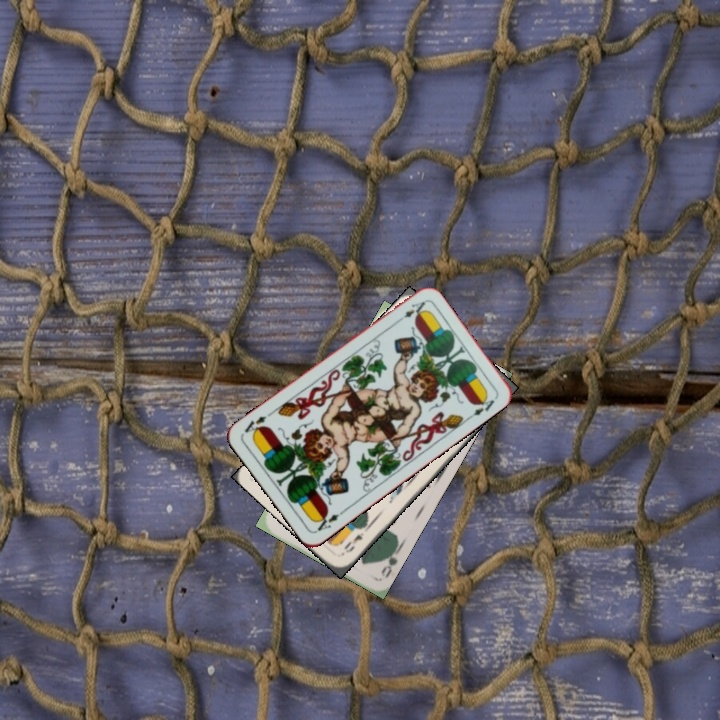EA: (312, 505, 348, 534), (392, 297, 428, 326)
EO: (340, 528, 366, 556)
GO: (377, 542, 403, 581)
